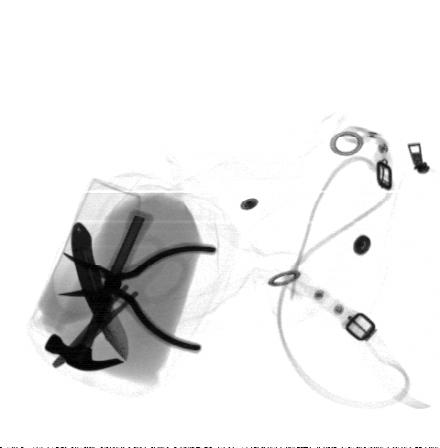Hammer: (43, 207, 156, 374)
Knife: (69, 219, 131, 362)
Pliers: (55, 242, 220, 354)
Scissors: (49, 229, 192, 371)
